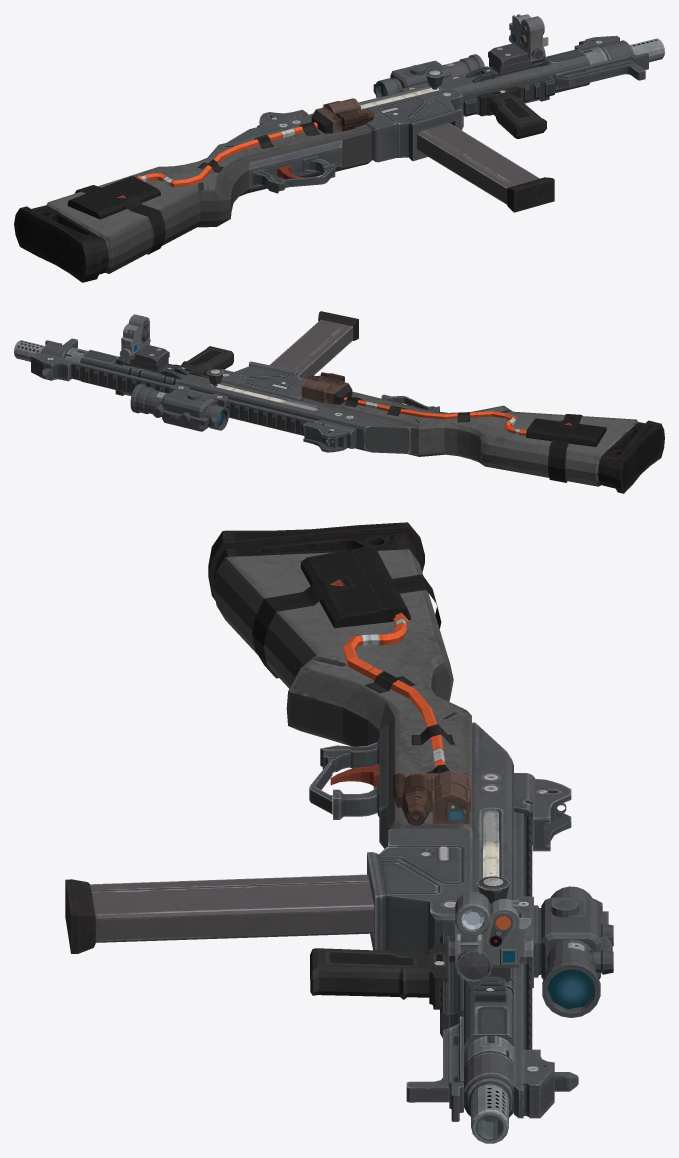
The picture shows the model from 3 angles, top to bottom: view 1: azimuth 30°, elevation 25°; view 2: azimuth 150°, elevation 25°; view 3: azimuth 270°, elevation 25°; orthographic projection. The views are drawn at different scales.
Visible parts, largest first — view 1: wp01d_a001a_sm.mo, wp01d_magazine001a_sm.mo, wp01d_attach001a_sm.mo, wp01d_scope001a_sm.mo, wp01d_muzzle001a_sm.mo; view 2: wp01d_a001a_sm.mo, wp01d_scope001a_sm.mo, wp01d_magazine001a_sm.mo, wp01d_attach001a_sm.mo, wp01d_muzzle001a_sm.mo; view 3: wp01d_a001a_sm.mo, wp01d_magazine001a_sm.mo, wp01d_scope001a_sm.mo, wp01d_attach001a_sm.mo, wp01d_muzzle001a_sm.mo.
Part boxes in pixels (x1,y1,x2,y2): wp01d_a001a_sm.mo: (14, 35, 648, 282); wp01d_magazine001a_sm.mo: (417, 123, 554, 212); wp01d_attach001a_sm.mo: (488, 14, 548, 74); wp01d_scope001a_sm.mo: (373, 54, 484, 97); wp01d_muzzle001a_sm.mo: (630, 38, 664, 62); wp01d_a001a_sm.mo: (31, 338, 664, 493); wp01d_scope001a_sm.mo: (130, 383, 228, 431); wp01d_magazine001a_sm.mo: (269, 311, 358, 379); wp01d_attach001a_sm.mo: (119, 314, 169, 372); wp01d_muzzle001a_sm.mo: (14, 340, 44, 361); wp01d_a001a_sm.mo: (208, 522, 578, 1121); wp01d_magazine001a_sm.mo: (65, 874, 374, 953); wp01d_scope001a_sm.mo: (514, 886, 613, 1017); wp01d_attach001a_sm.mo: (449, 892, 532, 985); wp01d_muzzle001a_sm.mo: (471, 1085, 508, 1143).
Size of the model in its own units: 0.7012 by 0.0861 by 0.284.
Materials: 5 (5 with a texture image).
